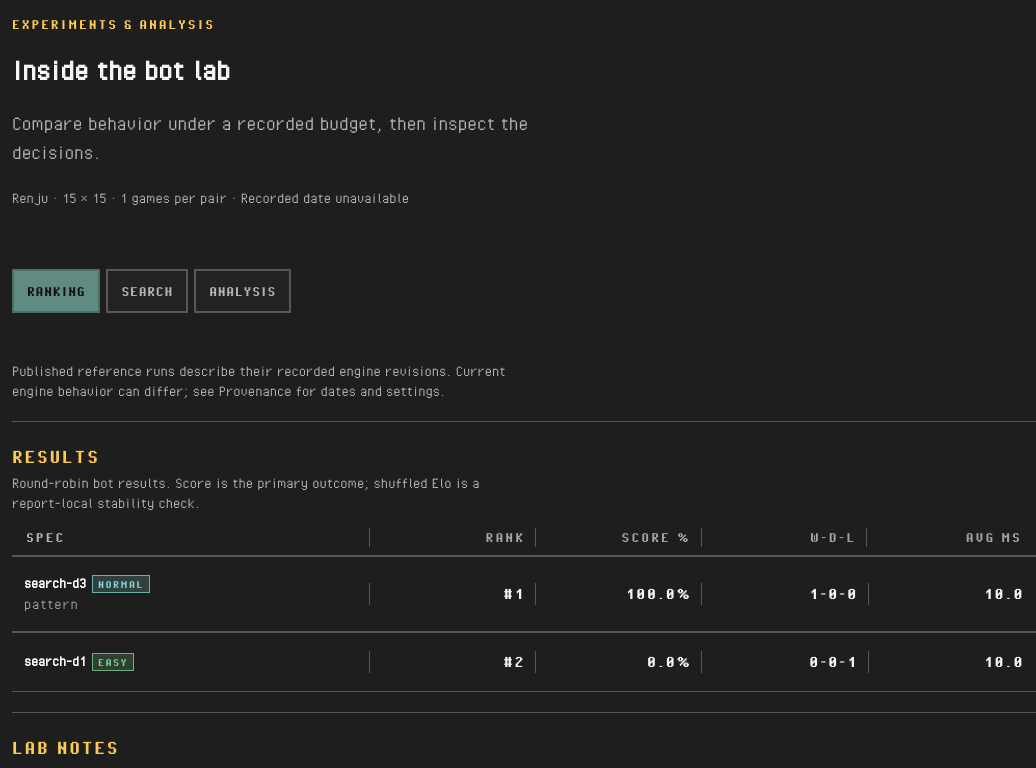
Test: LabReportRoute › loads only the active report and switches tabs lazily
Expected: the text "search-d3" is shown, [24,576,86,592]
Click the link "Analysis" at (243, 291), box [194,269,291,313]
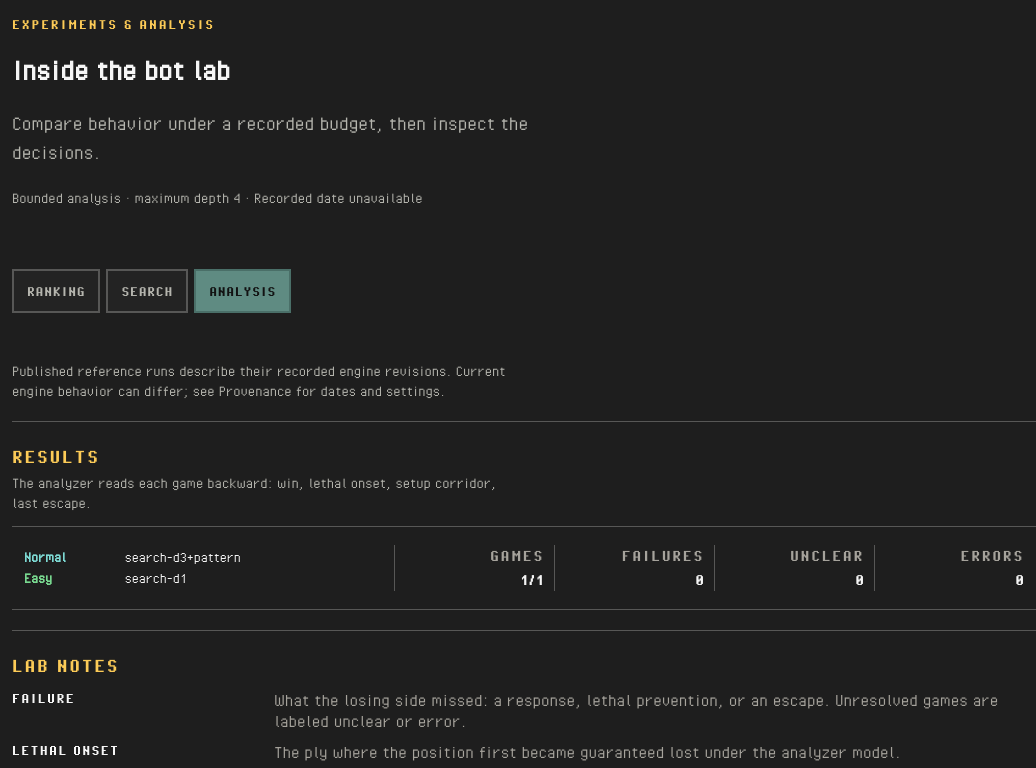
Expected: the text "search-d3+pattern" is shown, [125,549,241,566]
